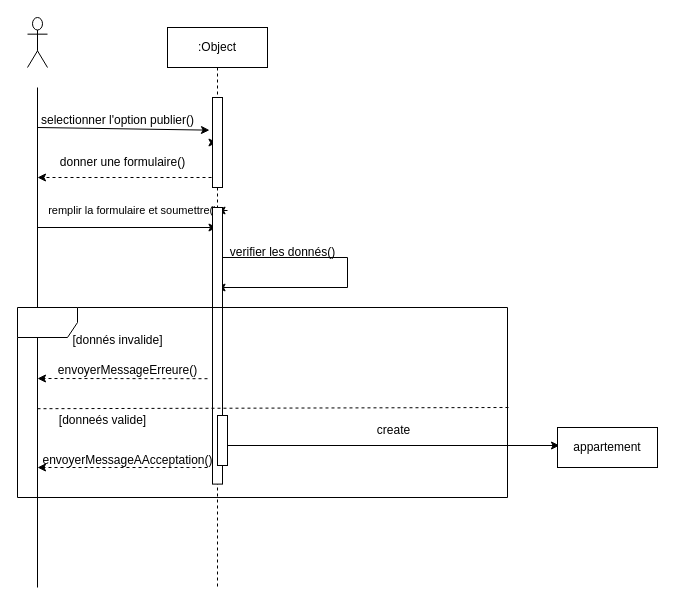
The diagram is 675 pixels wide and 606 high, and some of its shapes have lost their labels. The box of each missing label's shape, as (x1, y1, x2, y2) in pixels:
alt: (16, 306, 508, 498)
prop: (26, 16, 48, 68)
